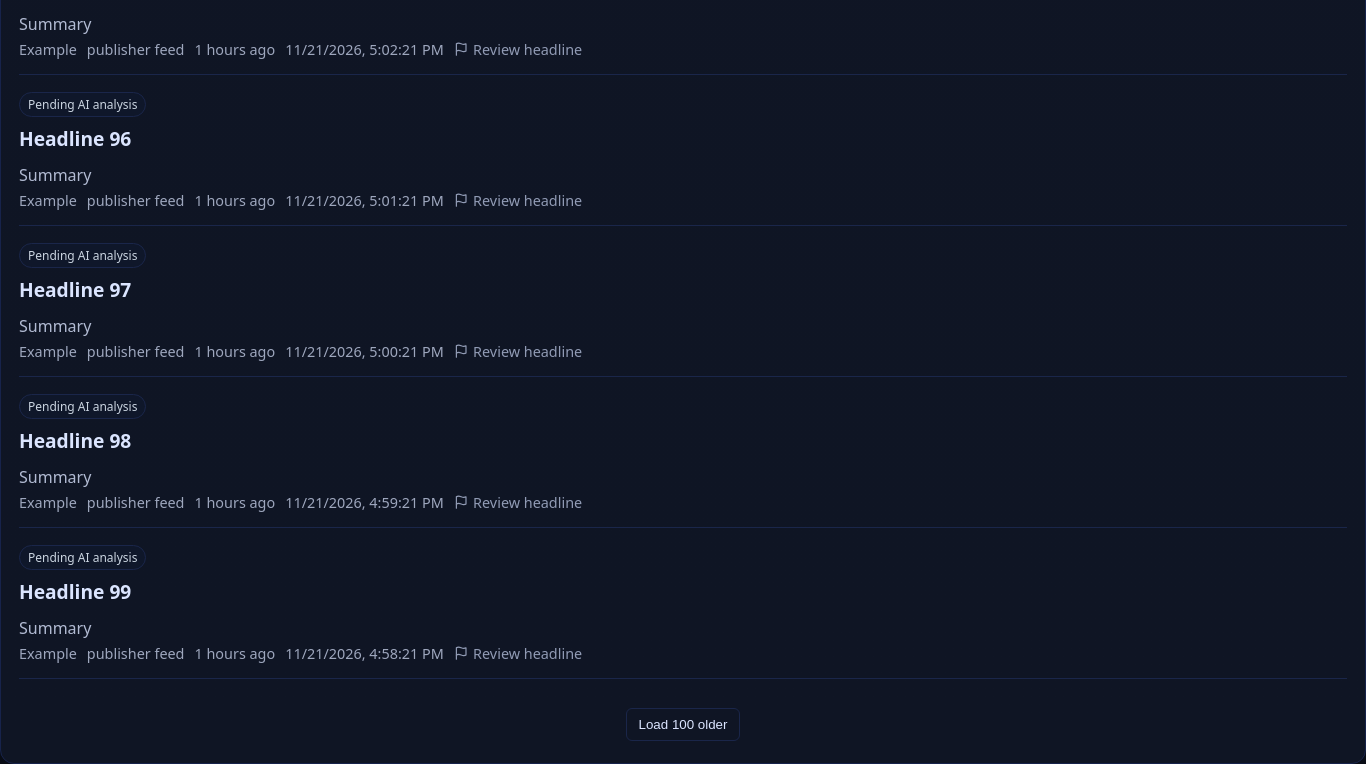
Test: NewsFeed › loads older pages within the selected age window
(page scrolled)
Click the button "Load 100 older": {"x": 683, "y": 724} [626, 708, 740, 741]
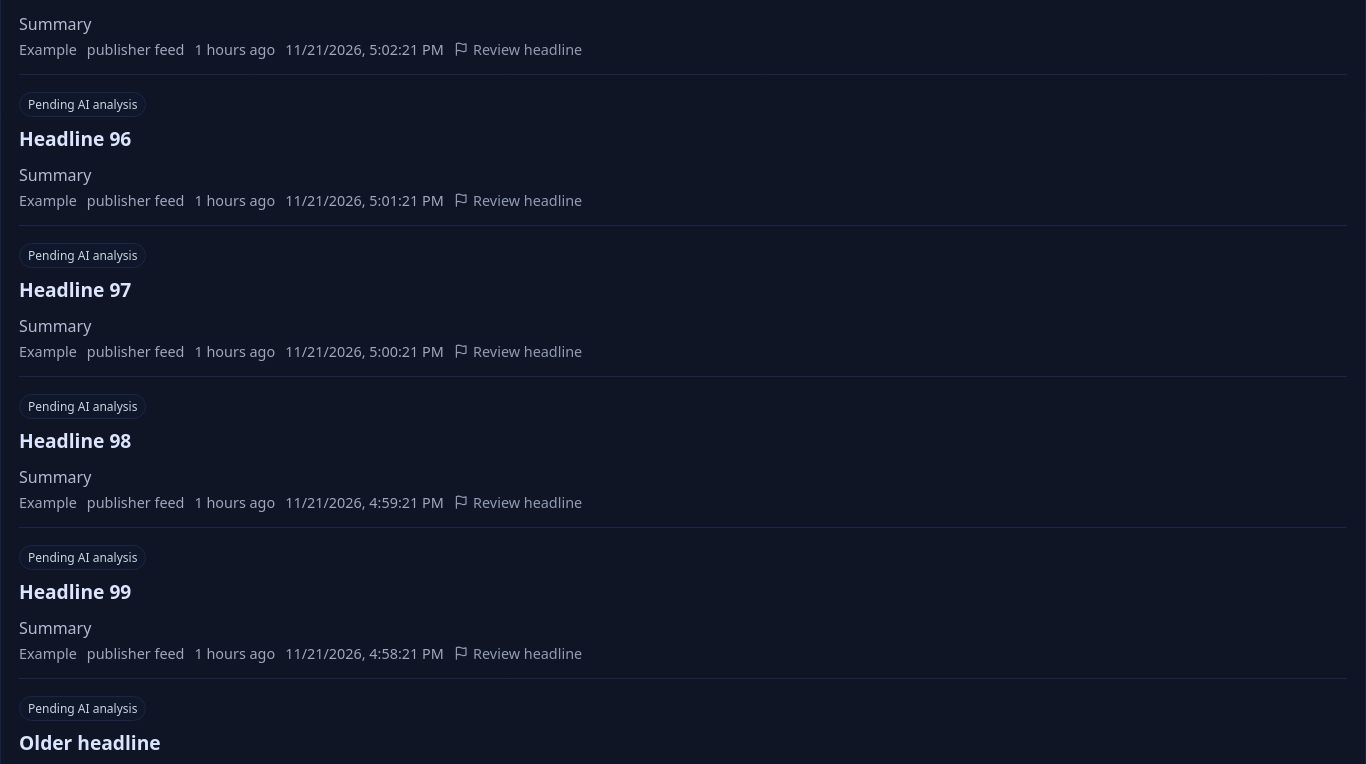
Expected: the heading "Older headline" is shown, [19, 729, 161, 756]
